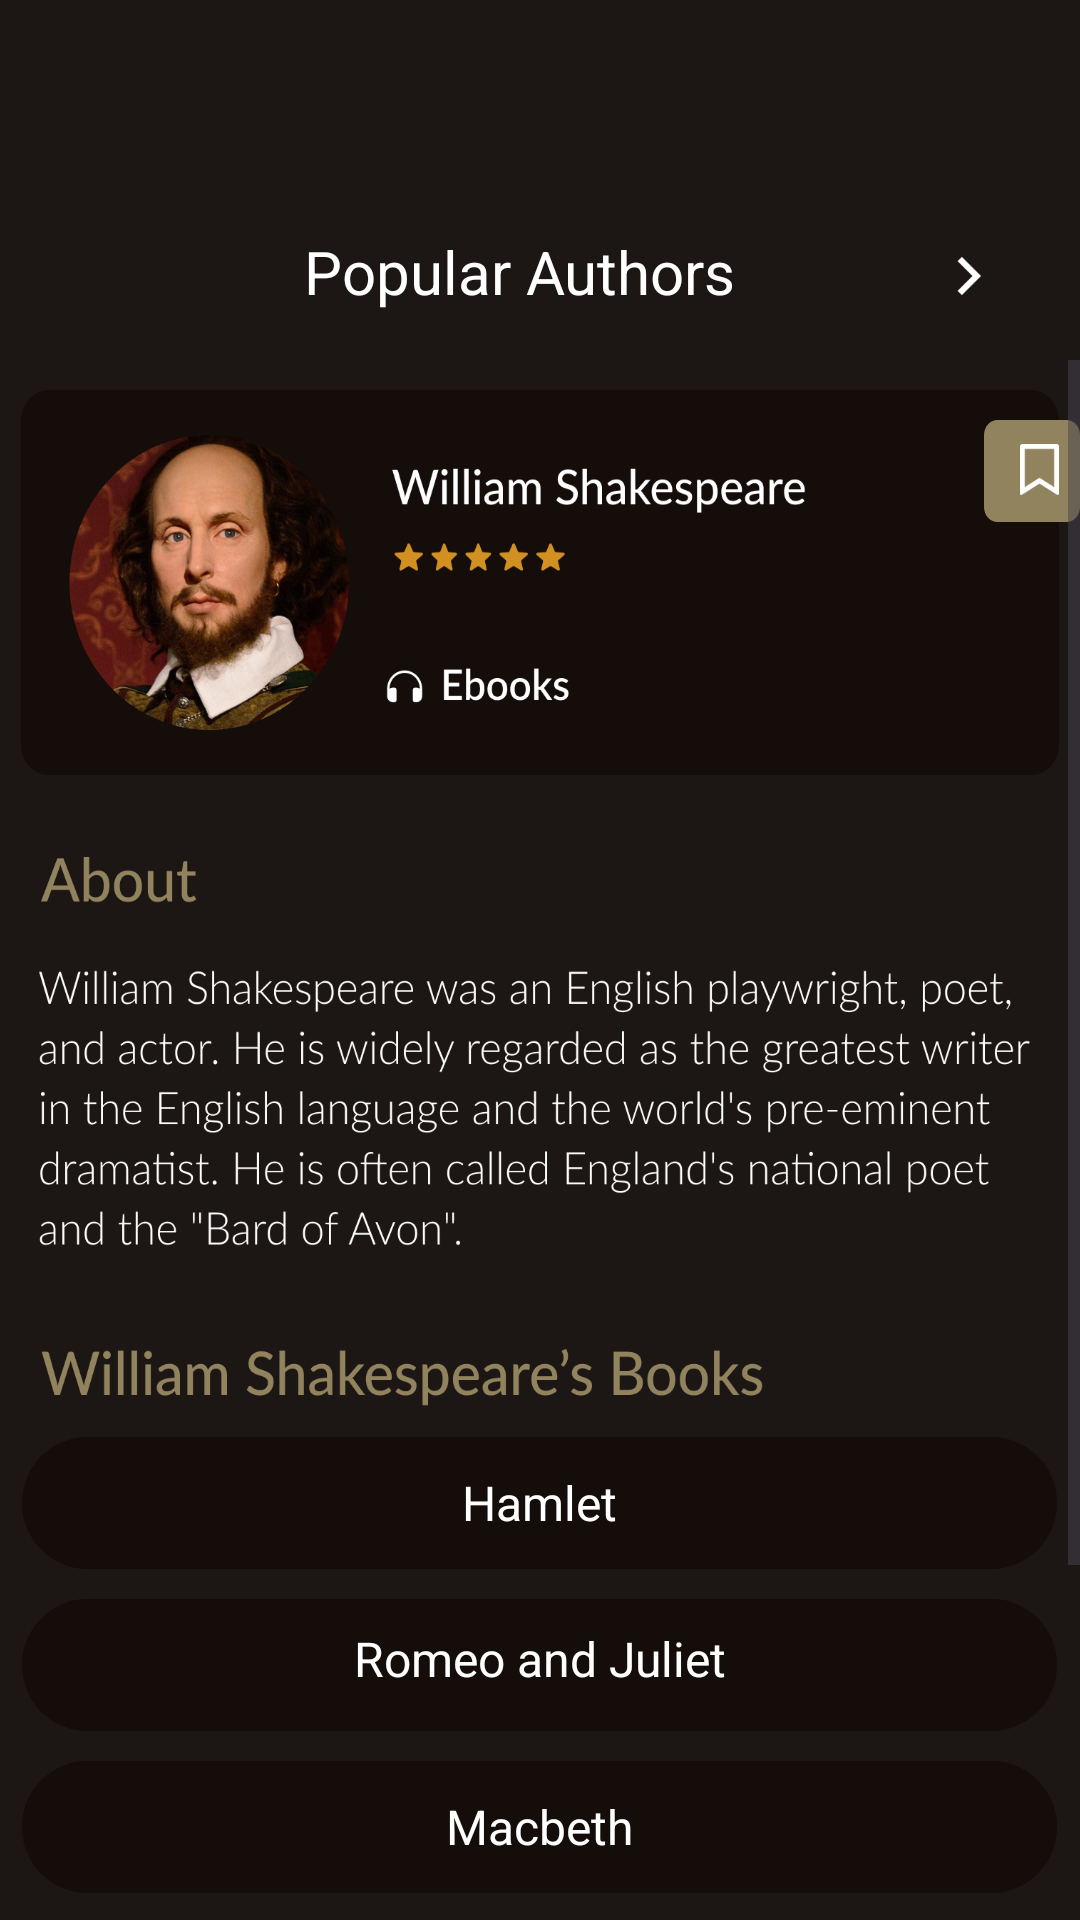

Screen size 1080×1920. Icon name, then its box in pixels as bbox=(x1, y1, x2, y2):
arrowrightine: bbox=(957, 257, 981, 295)
